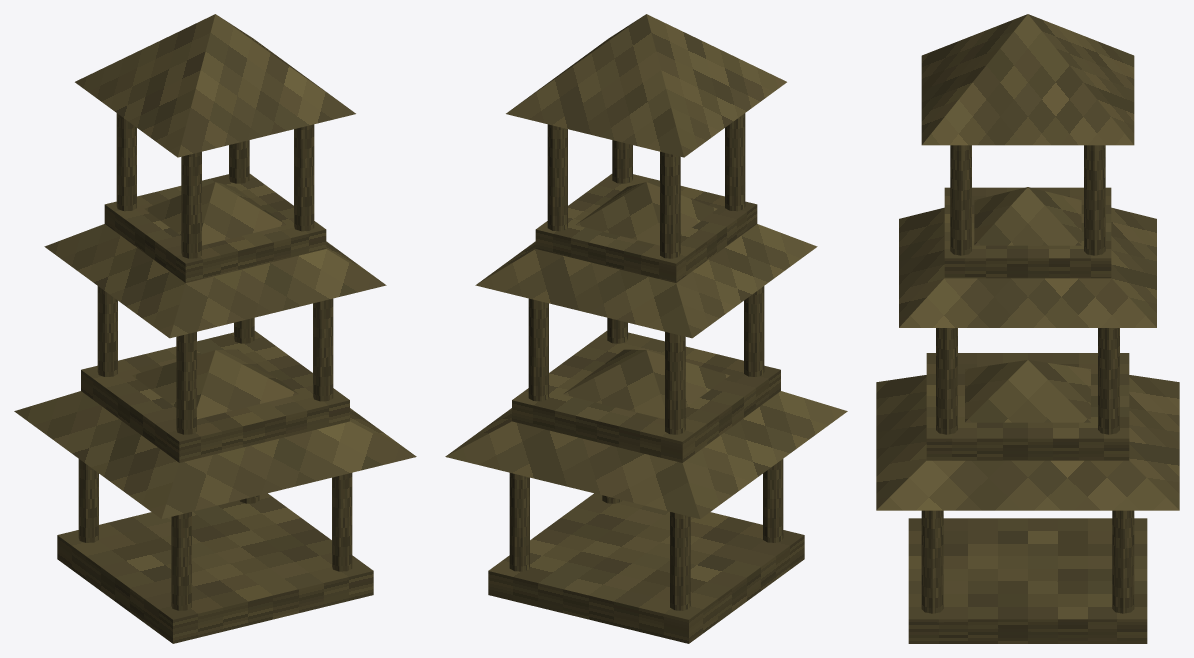
File: pagoda_04.glb
3 renders of one model, left to right at view 1: azimuth 30°, elevation 25°; view 2: azimuth 150°, elevation 25°; view 3: azimuth 270°, elevation 25°, orthographic. The views are drawn at different scales.
Parts seen in each view (by area): view 1: Floor, Roof, Roof.002, Roof.001, Floor.001, Floor.002, Column.010, Column.008, Column.006, Column.004, Column.002, Column (+4 smaller); view 2: Floor, Roof, Roof.002, Roof.001, Floor.001, Floor.002, Column.011, Column.009, Column.007, Column.005, Column.003, Column.001 (+4 smaller); view 3: Roof, Floor, Roof.001, Roof.002, Floor.001, Floor.002, Column.010, Column.011, Column.002, Column.003, Column.006, Column.007.
Part boxes in pixels (bbox=[...]): Floor: bbox=[57, 493, 373, 643]; Roof: bbox=[14, 349, 416, 518]; Roof.002: bbox=[75, 14, 355, 157]; Roof.001: bbox=[44, 182, 386, 338]; Floor.001: bbox=[81, 331, 349, 462]; Floor.002: bbox=[104, 174, 326, 282]; Column.010: bbox=[294, 124, 314, 231]; Column.008: bbox=[181, 151, 201, 258]; Column.006: bbox=[313, 298, 333, 401]; Column.004: bbox=[176, 332, 196, 434]; Column.002: bbox=[332, 473, 352, 571]; Column: bbox=[171, 512, 191, 610]; Floor: bbox=[488, 493, 804, 643]; Roof: bbox=[445, 349, 847, 518]; Roof.002: bbox=[506, 14, 786, 157]; Roof.001: bbox=[475, 182, 817, 338]; Floor.001: bbox=[512, 331, 780, 462]; Floor.002: bbox=[535, 174, 757, 282]; Column.011: bbox=[547, 124, 567, 231]; Column.009: bbox=[660, 151, 680, 258]; Column.007: bbox=[528, 298, 548, 401]; Column.005: bbox=[665, 332, 685, 434]; Column.003: bbox=[509, 473, 529, 571]; Column.001: bbox=[670, 512, 690, 610]; Roof: bbox=[876, 360, 1179, 510]; Floor: bbox=[908, 518, 1147, 643]; Roof.001: bbox=[899, 187, 1156, 327]; Roof.002: bbox=[921, 14, 1134, 145]; Floor.001: bbox=[926, 353, 1129, 460]; Floor.002: bbox=[944, 187, 1111, 278]; Column.010: bbox=[950, 145, 971, 255]; Column.011: bbox=[1084, 145, 1105, 255]; Column.002: bbox=[921, 510, 943, 613]; Column.003: bbox=[1112, 510, 1134, 613]; Column.006: bbox=[936, 328, 957, 434]; Column.007: bbox=[1098, 328, 1119, 434].
Size of the model in its own units: 3.33 by 7.01 by 3.33.
1 material, 1 textured.
